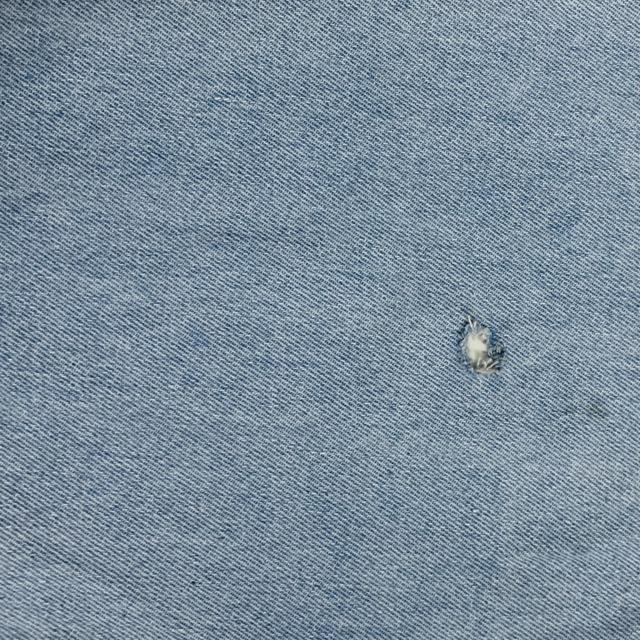seam: (433, 298, 525, 396)
